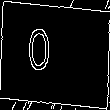O_S: (43, 27, 67, 83)
